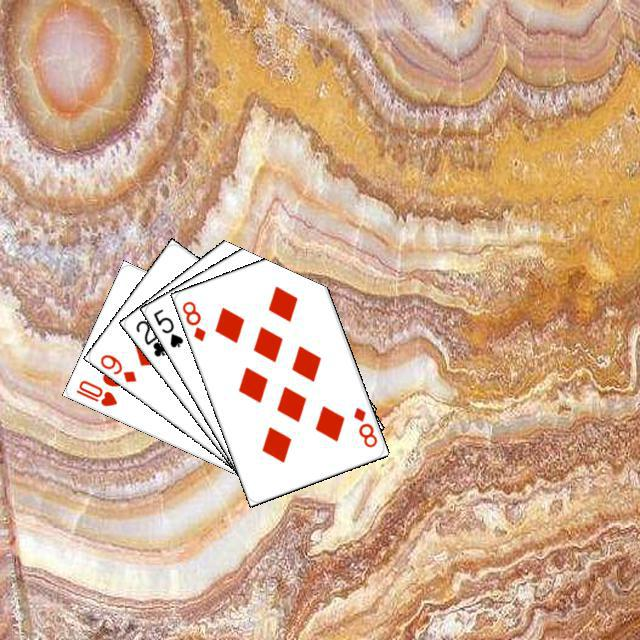10h: (71, 375, 119, 408)
2c: (131, 315, 169, 359)
5s: (148, 304, 185, 349)
8d: (177, 296, 207, 343), (349, 402, 379, 449)
9d: (95, 349, 138, 384)
